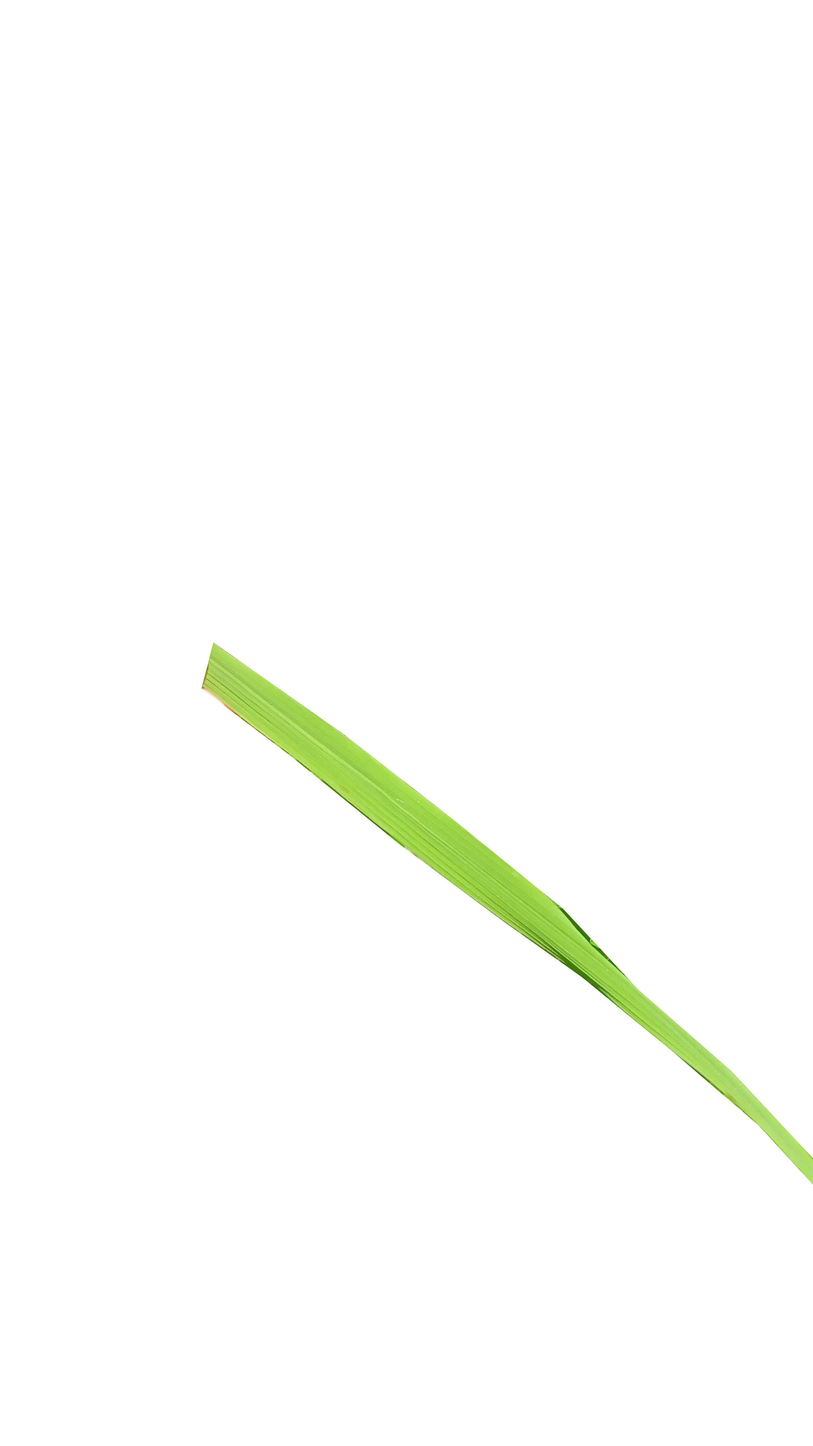Tungro: (199, 643, 813, 1199)
